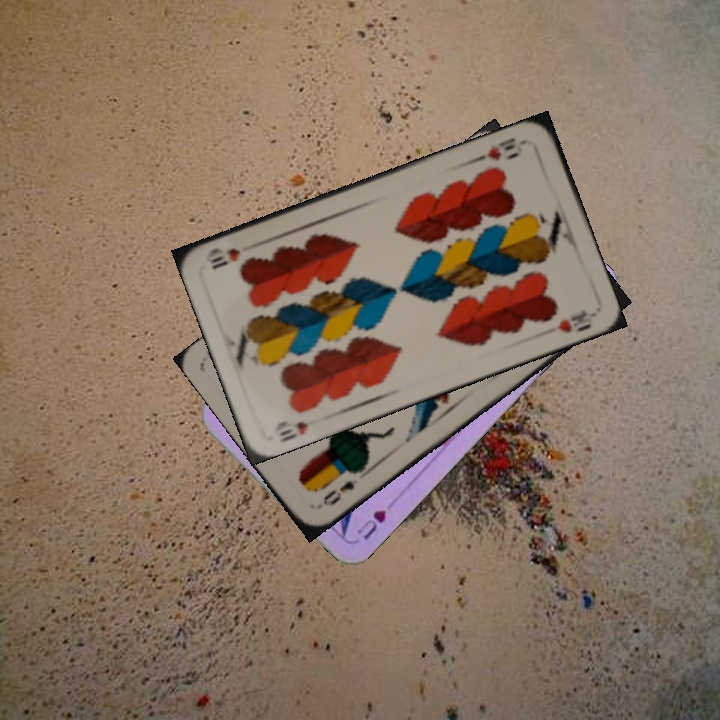EO: (318, 467, 363, 509)
H10: (473, 133, 530, 163), (270, 416, 311, 445)
HU: (353, 505, 389, 543)
